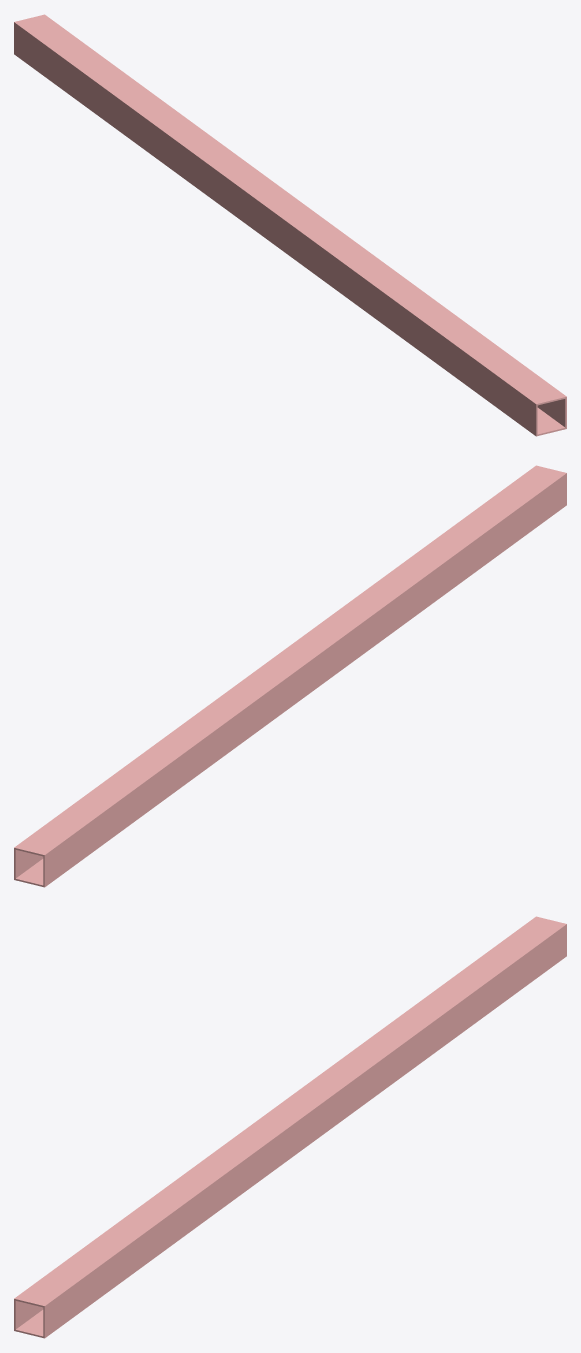
3 renders of one model, top to bottom at view 1: azimuth 30°, elevation 25°; view 2: azimuth 150°, elevation 25°; view 3: azimuth 330°, elevation 25°, orthographic.
Visible parts, largest first — view 1: <组件#32>_1; view 2: <组件#32>_1; view 3: <组件#32>_1.
Boxes of the visible parts, box(x1,y1,x2,y2) form: <组件#32>_1: box(14, 14, 566, 436); <组件#32>_1: box(14, 465, 566, 887); <组件#32>_1: box(14, 916, 566, 1338).
Size of the model in its own units: 1.18 by 1.18 by 34.65.
